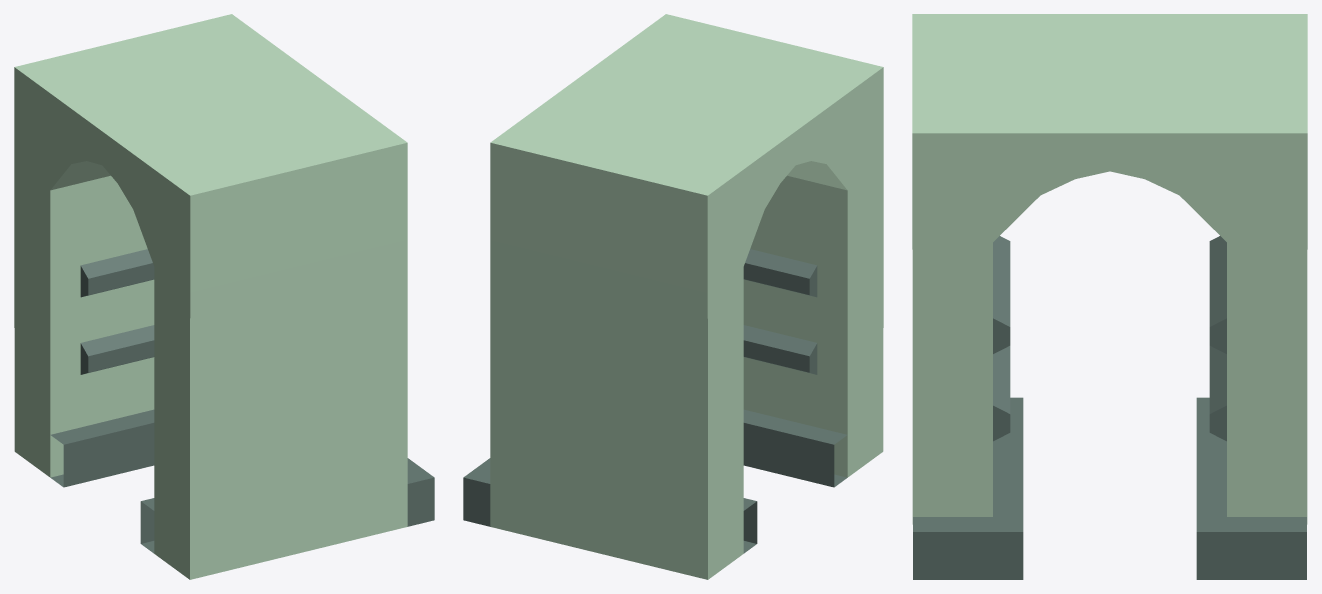
File: Bridge1MeterSidePiece.fbx
3 views of the same model, side by side, from view 1: azimuth 30°, elevation 25°; view 2: azimuth 150°, elevation 25°; view 3: azimuth 270°, elevation 25° (orthographic). The views are drawn at different scales.
Parts seen in each view (by area): view 1: Bridge1MeterSidePiece; view 2: Bridge1MeterSidePiece; view 3: Bridge1MeterSidePiece.
Part boxes in pixels (x1=…): Bridge1MeterSidePiece: x1=14, y1=14, x2=434, y2=579; Bridge1MeterSidePiece: x1=463, y1=14, x2=883, y2=579; Bridge1MeterSidePiece: x1=912, y1=14, x2=1307, y2=579.
Size of the model in its own units: 0.8049 by 1.21 by 1.
